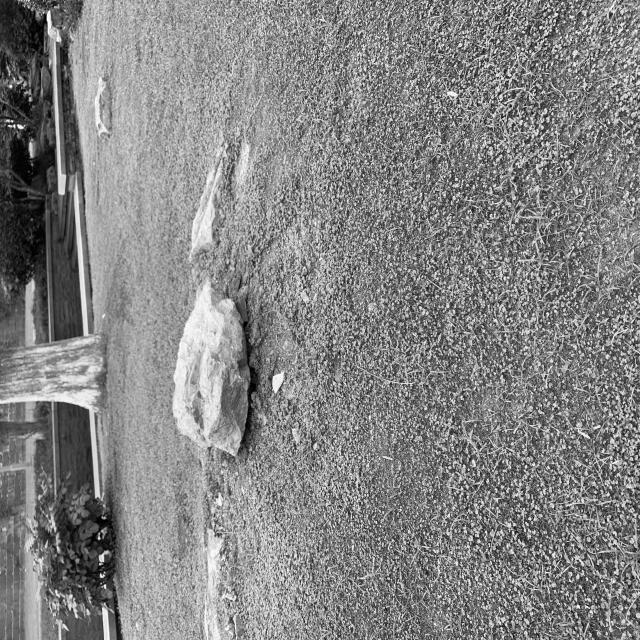Stone: (172, 282, 250, 454)
